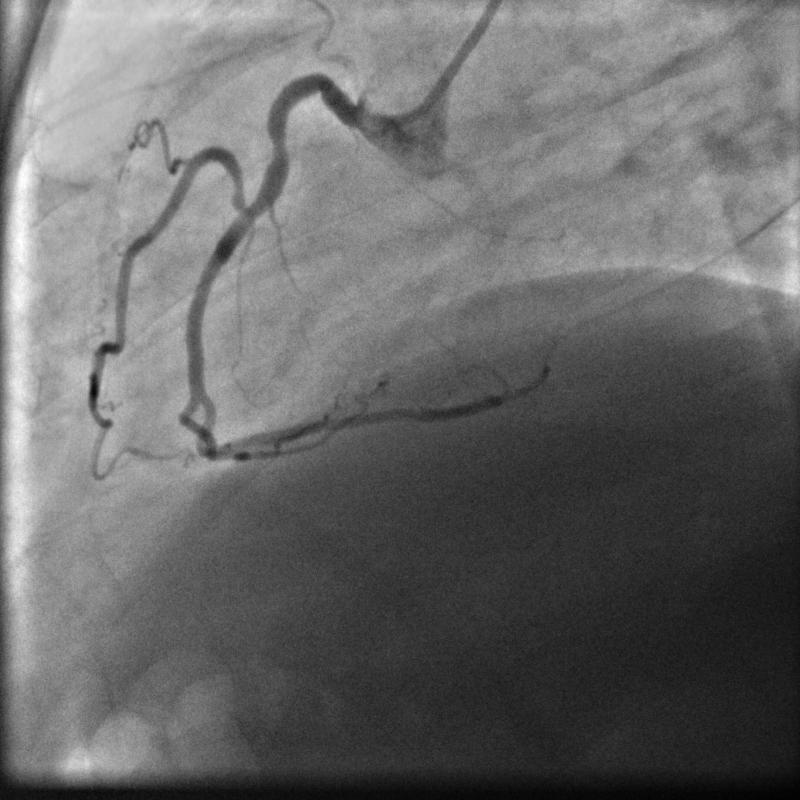Stenosis: (263, 128, 293, 166)
